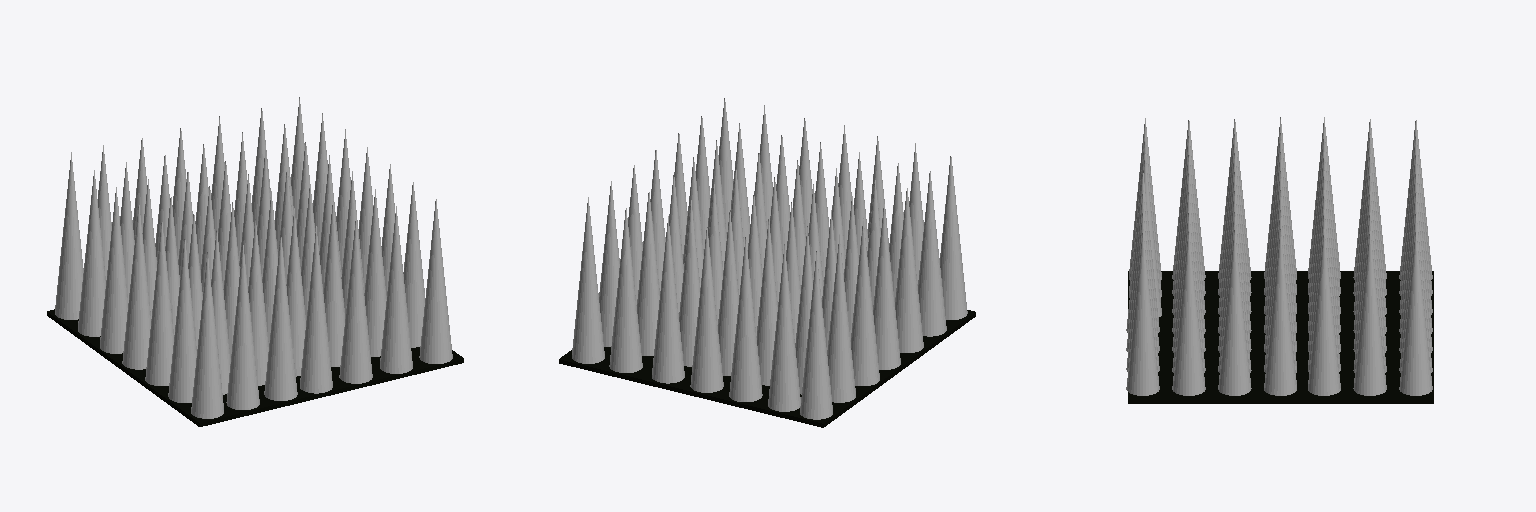
File: spikes.obj
3 views of the same model, side by side, from view 1: azimuth 30°, elevation 25°; view 2: azimuth 150°, elevation 25°; view 3: azimuth 270°, elevation 25° (orthographic).
Visible parts, largest first — view 1: Cube, Конус.016, Конус.008, Конус.021, Конус.004, Конус.003, Конус.009, Конус.026, Конус.043_Конус.044, Конус.047_Конус.048, Конус.044_Конус.045, Конус.045_Конус.046 (+28 smaller); view 2: Cube, Конус.047_Конус.048, Конус.017, Конус.041_Конус.042, Конус.027, Конус.030, Конус.022, Конус.037_Конус.038, Конус.046_Конус.047, Конус.048_Конус.049, Конус.045_Конус.046, Конус.044_Конус.045 (+28 smaller); view 3: Cube, Конус.017, Конус, Конус.018, Конус.019, Конус.002, Конус.001, Конус.003, Конус.022, Конус.005, Конус.023, Конус.007 (+28 smaller).
Part boxes in pixels (x1,y1,x2,y2): Cube: (47, 309, 463, 426); Конус.016: (264, 237, 297, 400); Конус.008: (339, 219, 372, 383); Конус.021: (191, 252, 223, 418); Конус.004: (380, 206, 412, 373); Конус.003: (419, 199, 452, 363); Конус.009: (300, 226, 332, 393); Конус.026: (226, 245, 259, 409); Конус.043_Конус.044: (122, 205, 150, 369); Конус.047_Конус.048: (55, 152, 83, 319); Конус.044_Конус.045: (145, 222, 173, 385); Конус.045_Конус.046: (168, 239, 196, 402); Cube: (559, 310, 975, 427); Конус.047_Конус.048: (800, 251, 832, 419); Конус.017: (572, 197, 604, 363); Конус.041_Конус.042: (768, 244, 800, 411); Конус.027: (609, 208, 642, 372); Конус.030: (690, 228, 723, 392); Конус.022: (652, 216, 684, 383); Конус.037_Конус.038: (729, 237, 762, 401); Конус.046_Конус.047: (851, 218, 879, 385); Конус.048_Конус.049: (827, 234, 855, 402); Конус.045_Конус.046: (918, 171, 946, 336); Конус.044_Конус.045: (895, 188, 923, 352); Cube: (1128, 271, 1433, 403); Конус.017: (1399, 232, 1432, 395); Конус: (1264, 229, 1296, 395); Конус.018: (1353, 230, 1386, 395); Конус.019: (1308, 229, 1340, 395); Конус.002: (1172, 231, 1205, 395); Конус.001: (1218, 230, 1251, 395); Конус.003: (1126, 231, 1159, 395); Конус.022: (1399, 192, 1432, 352); Конус.005: (1264, 190, 1296, 352); Конус.023: (1353, 191, 1386, 352); Конус.007: (1172, 192, 1205, 352).
Size of the model in its own units: 20 by 12.05 by 20.1.